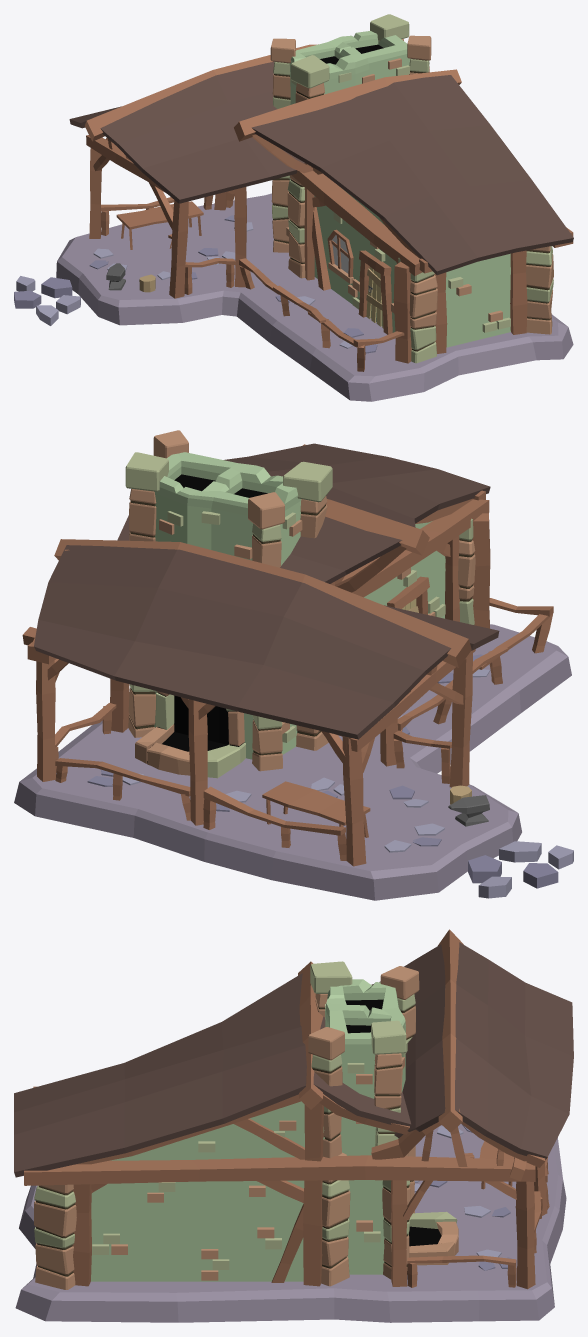
Rendered from ForgeBuilding.fbx.
3 views of the same model, one above another, from view 1: azimuth 30°, elevation 25°; view 2: azimuth 150°, elevation 25°; view 3: azimuth 270°, elevation 25° (orthographic). The views are drawn at different scales.
Visible parts, largest first — view 1: Cube; view 2: Cube; view 3: Cube.
Boxes of the visible parts, <box> form: Cube: <box>14,14,573,401</box>; Cube: <box>14,430,573,900</box>; Cube: <box>14,929,573,1322</box>.
Size of the model in its own units: 154 by 85.79 by 162.
